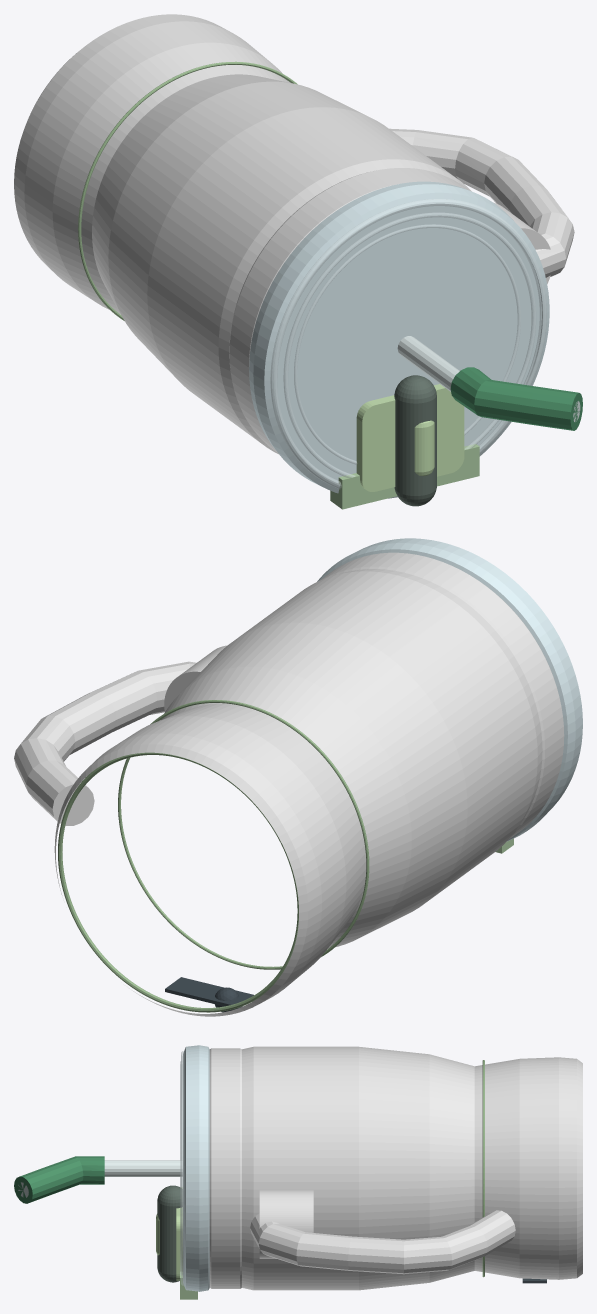
The model's file is nikko_tumbler_3d.glb.
3 views of the same model, one above another, from view 1: azimuth 30°, elevation 25°; view 2: azimuth 150°, elevation 25°; view 3: azimuth 270°, elevation 25° (orthographic). The views are drawn at different scales.
Parts seen in each view (by area): view 1: Tumbler body, Clear lid top, Clear lid rim, Stainless rim, Ergonomic handle, Green angled straw sleeve, Lid outer polished bead, Recessed oval slider channel, Green sliding lid cover_core, Lid inner concentric bead, Lid locking tab, Lid inner seal ring (+4 smaller); view 2: Tumbler body, Ergonomic handle, Stainless rim, Clear lid rim, Bottom protective foot seam, Body taper transition seam, NIKKO logo plaque, Handle upper boss; view 3: Tumbler body, Ergonomic handle, Stainless rim, Clear lid rim, Green angled straw sleeve, Handle upper boss, Recessed oval slider channel, Straw, Lid outer polished bead, Lid inner concentric bead, Body taper transition seam.
Boxes of the visible parts, left/top/right/bottom form: Tumbler body: left=14, top=14, right=471, bottom=454; Clear lid top: left=275, top=203, right=541, bottom=483; Clear lid rim: left=249, top=181, right=549, bottom=498; Stainless rim: left=229, top=168, right=469, bottom=452; Ergonomic handle: left=389, top=128, right=574, bottom=277; Green angled straw sleeve: left=450, top=367, right=582, bottom=430; Lid outer polished bead: left=270, top=199, right=546, bottom=488; Recessed oval slider channel: left=394, top=375, right=436, bottom=506; Green sliding lid cover_core: left=370, top=384, right=451, bottom=491; Lid inner concentric bead: left=283, top=212, right=535, bottom=477; Lid locking tab: left=330, top=444, right=479, bottom=509; Lid inner seal ring: left=294, top=224, right=520, bottom=464; Tumbler body: left=54, top=569, right=542, bottom=1016; Ergonomic handle: left=14, top=661, right=196, bottom=825; Stainless rim: left=319, top=552, right=564, bottom=839; Clear lid rim: left=317, top=538, right=582, bottom=841; Bottom protective foot seam: left=58, top=752, right=298, bottom=1012; Body taper transition seam: left=118, top=700, right=369, bottom=969; NIKKO logo plaque: left=165, top=977, right=253, bottom=1008; Handle upper boss: left=164, top=645, right=226, bottom=711; Tumbler body: left=242, top=1046, right=582, bottom=1290; Ergonomic handle: left=250, top=1210, right=515, bottom=1274; Stainless rim: left=209, top=1048, right=241, bottom=1288; Clear lid rim: left=183, top=1045, right=209, bottom=1291; Green angled straw sleeve: left=14, top=1156, right=104, bottom=1203; Handle upper boss: left=259, top=1190, right=313, bottom=1258; Recessed oval slider channel: left=157, top=1185, right=182, bottom=1282; Straw: left=18, top=1160, right=182, bottom=1197; Lid outer polished bead: left=181, top=1051, right=183, bottom=1285; Lid inner concentric bead: left=180, top=1061, right=182, bottom=1275; Body taper transition seam: left=482, top=1060, right=484, bottom=1277.
Size of the model in its own units: 2.32 by 1.64 by 3.78.
